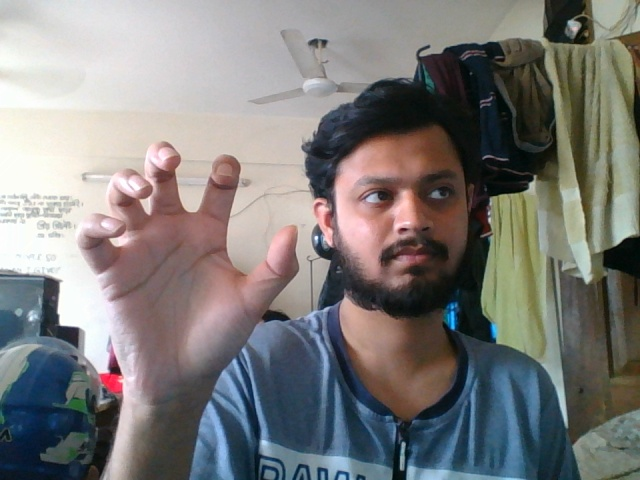ja: (64, 134, 307, 414)
